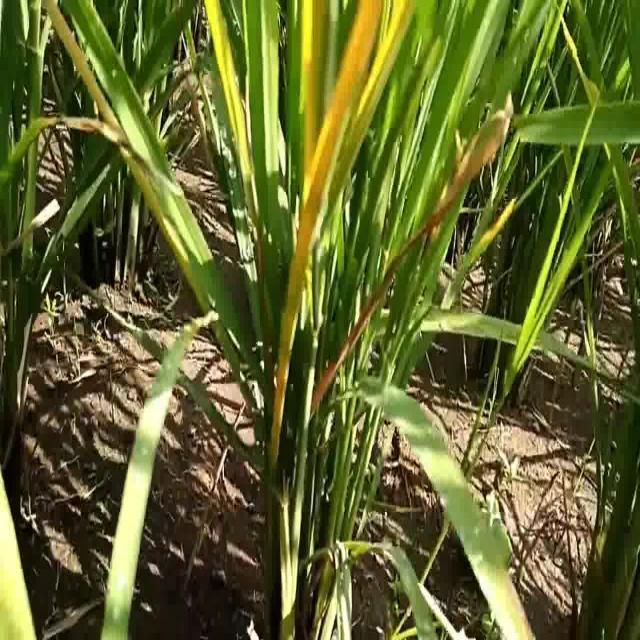Rice Tungro: (275, 8, 388, 449), (327, 27, 425, 213), (38, 5, 115, 131), (203, 2, 251, 180), (299, 2, 325, 180)
